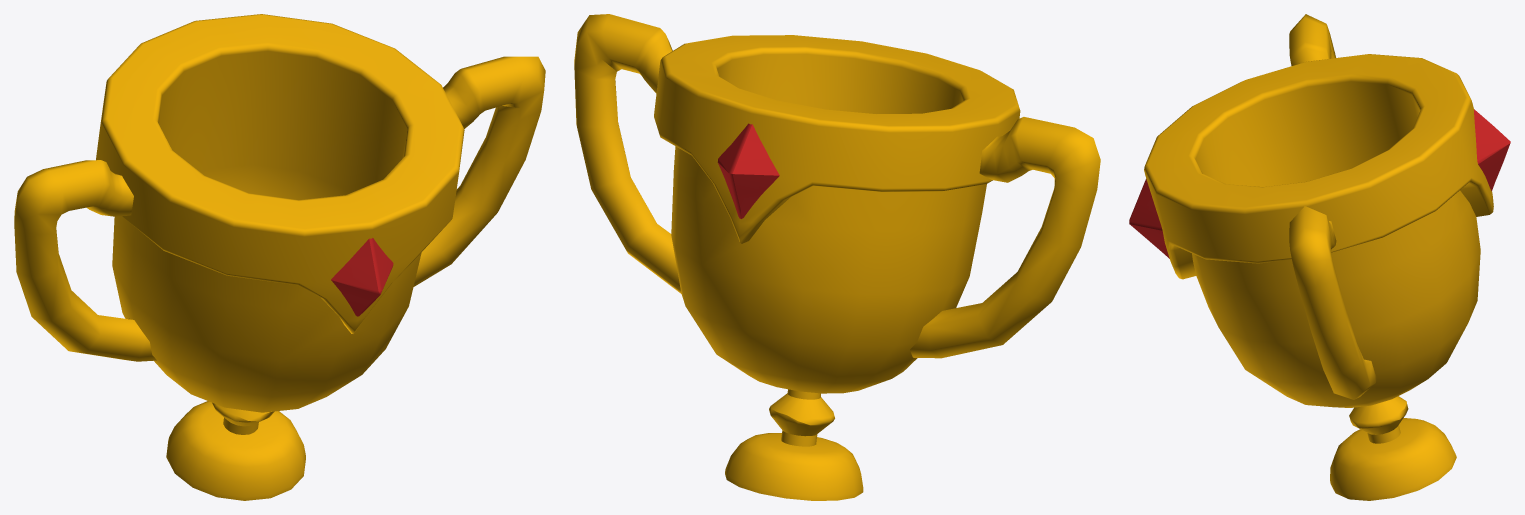
The picture shows the model from 3 angles, left to right: view 1: azimuth 30°, elevation 25°; view 2: azimuth 150°, elevation 25°; view 3: azimuth 270°, elevation 25°; orthographic projection. The views are drawn at different scales.
Visible parts, largest first — view 1: model_1.146; view 2: model_1.146; view 3: model_1.146.
Part boxes in pixels (x1=…): model_1.146: x1=14, y1=14, x2=545, y2=500; model_1.146: x1=574, y1=14, x2=1100, y2=500; model_1.146: x1=1129, y1=14, x2=1510, y2=500.
Bounding box in the file's own units: 5.53 × 4.23 × 3.78.
